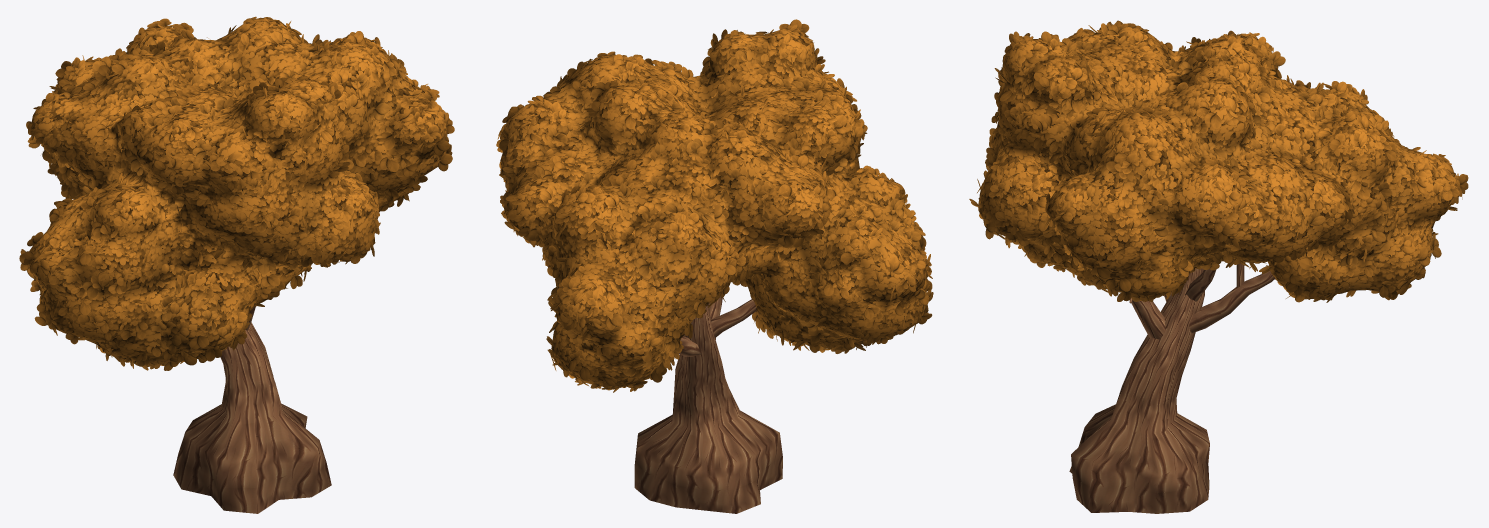
The model's file is oak_autumn.glb.
3 views of the same model, side by side, from view 1: azimuth 30°, elevation 25°; view 2: azimuth 150°, elevation 25°; view 3: azimuth 270°, elevation 25° (orthographic). The views are drawn at different scales.
Visible parts, largest first — view 1: oak_autumn_volume_LOD0, oak_autumn_leaves_LOD0, oak_autumn_trunk_LOD0; view 2: oak_autumn_volume_LOD0, oak_autumn_leaves_LOD0, oak_autumn_trunk_LOD0; view 3: oak_autumn_volume_LOD0, oak_autumn_leaves_LOD0, oak_autumn_trunk_LOD0.
Boxes of the visible parts, x1=… form: oak_autumn_volume_LOD0: x1=29, y1=17, x2=447, y2=362; oak_autumn_leaves_LOD0: x1=19, y1=16, x2=454, y2=370; oak_autumn_trunk_LOD0: x1=173, y1=306, x2=331, y2=513; oak_autumn_volume_LOD0: x1=500, y1=29, x2=928, y2=387; oak_autumn_leaves_LOD0: x1=496, y1=19, x2=933, y2=392; oak_autumn_trunk_LOD0: x1=634, y1=296, x2=782, y2=513; oak_autumn_volume_LOD0: x1=978, y1=28, x2=1459, y2=298; oak_autumn_leaves_LOD0: x1=969, y1=20, x2=1468, y2=302; oak_autumn_trunk_LOD0: x1=1069, y1=263, x2=1349, y2=513.
Size of what is drawn, in the model's own units: 10.55 by 10.78 by 11.13.
Materials: 3 (3 with a texture image).
